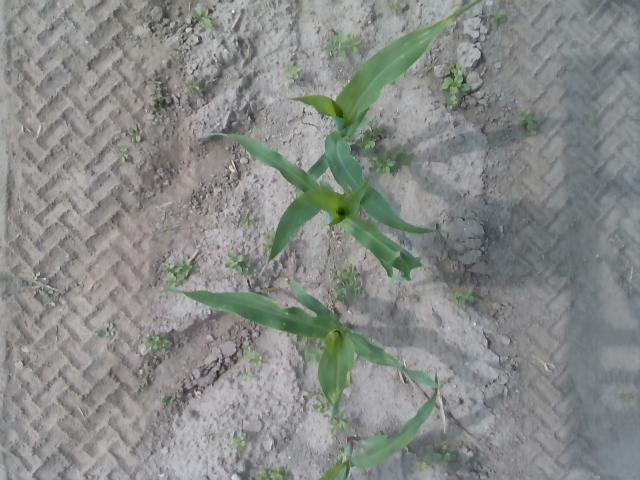Maize: (288, 0, 484, 233), (158, 280, 444, 424), (206, 132, 425, 283), (318, 371, 440, 480)
Weeds: (354, 119, 412, 175), (327, 262, 366, 306), (441, 62, 472, 112), (159, 258, 201, 290), (324, 32, 364, 61), (224, 249, 256, 277), (515, 106, 539, 138), (448, 285, 477, 310), (431, 442, 458, 468), (143, 332, 176, 352), (252, 466, 294, 480), (330, 411, 355, 434), (192, 6, 214, 32), (283, 60, 304, 87), (162, 212, 182, 235), (489, 8, 510, 28), (182, 75, 204, 94), (248, 348, 268, 367), (231, 431, 248, 453), (303, 344, 322, 362), (312, 393, 329, 413), (127, 124, 143, 143), (289, 333, 312, 346), (414, 454, 430, 472), (238, 212, 256, 228), (264, 231, 276, 255), (148, 90, 168, 104), (116, 147, 132, 163), (96, 322, 110, 340), (239, 368, 253, 382), (386, 0, 399, 15), (161, 394, 177, 406), (617, 392, 632, 402), (40, 288, 54, 298), (204, 433, 216, 444), (332, 447, 342, 459), (32, 271, 42, 283), (610, 234, 622, 243), (241, 345, 251, 354), (136, 382, 146, 391), (441, 376, 450, 384), (587, 113, 595, 121), (302, 390, 312, 396)
